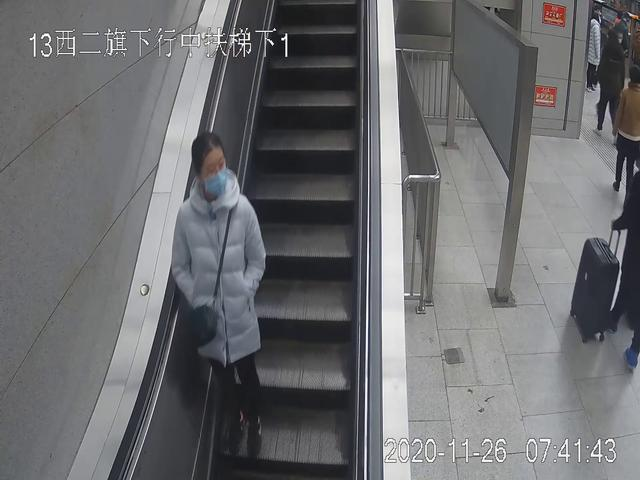person: (173, 137, 267, 459), (597, 33, 629, 135), (586, 12, 602, 92)
